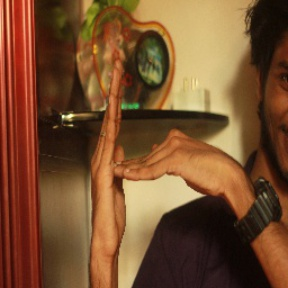Z: (82, 62, 227, 251)
